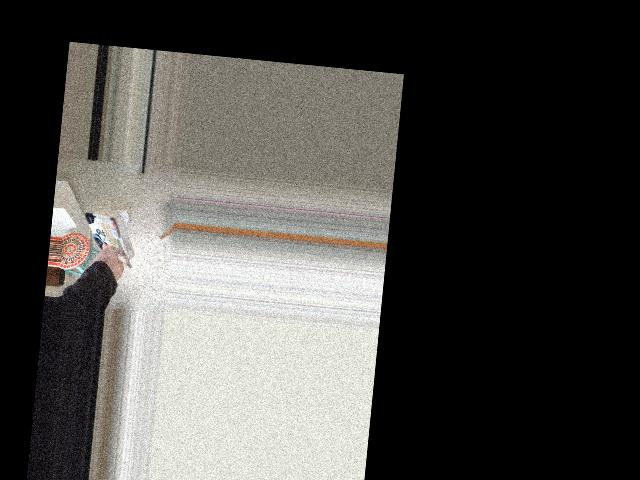cheese: (69, 204, 144, 281)
